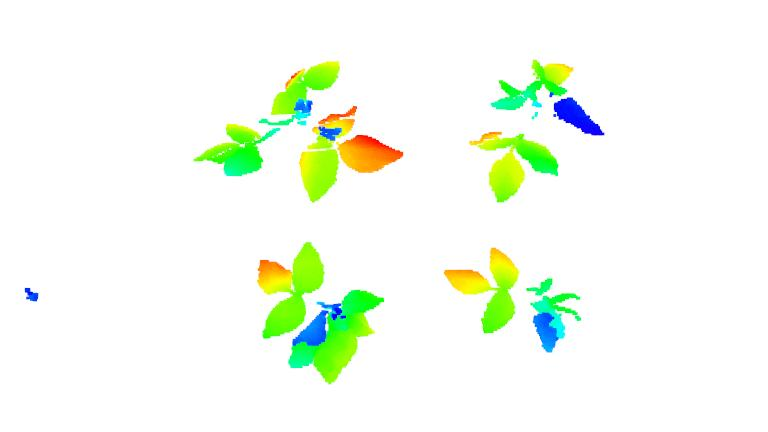mungbean: (197, 57, 406, 207), (245, 236, 386, 386), (479, 58, 609, 204), (442, 244, 588, 359)
